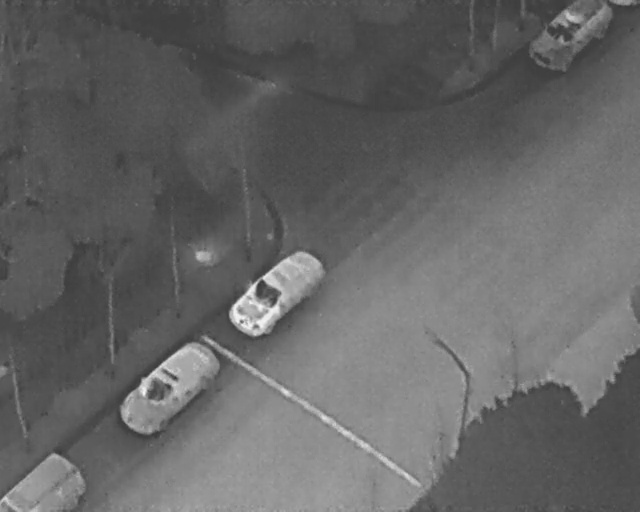Car: (111, 330, 225, 443), (226, 243, 330, 343), (1, 442, 87, 512), (528, 4, 611, 71)
